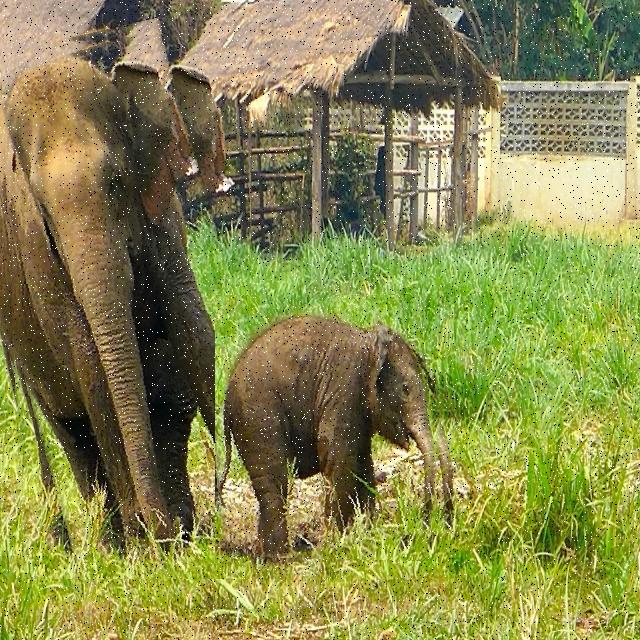elephant: (0, 26, 251, 579), (215, 295, 454, 561)
